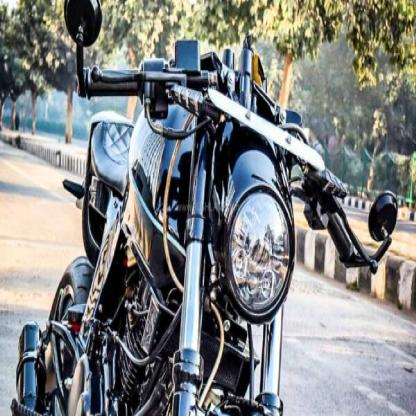bike: (16, 6, 405, 416)
